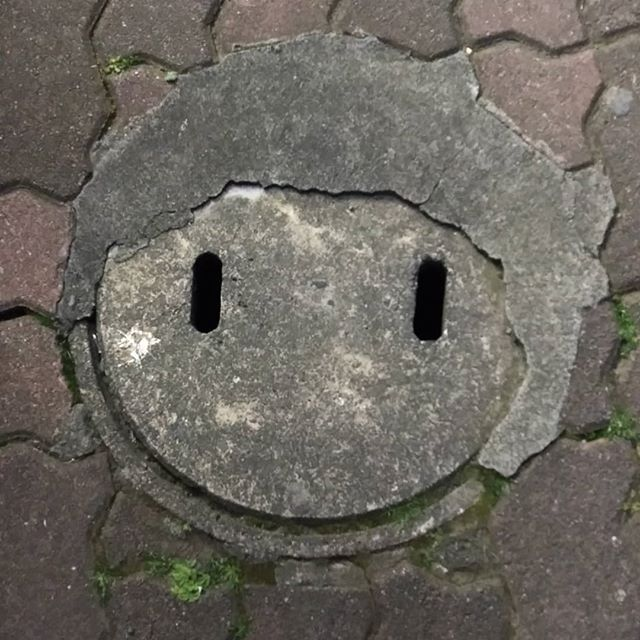manhole cover: (88, 47, 559, 557)
